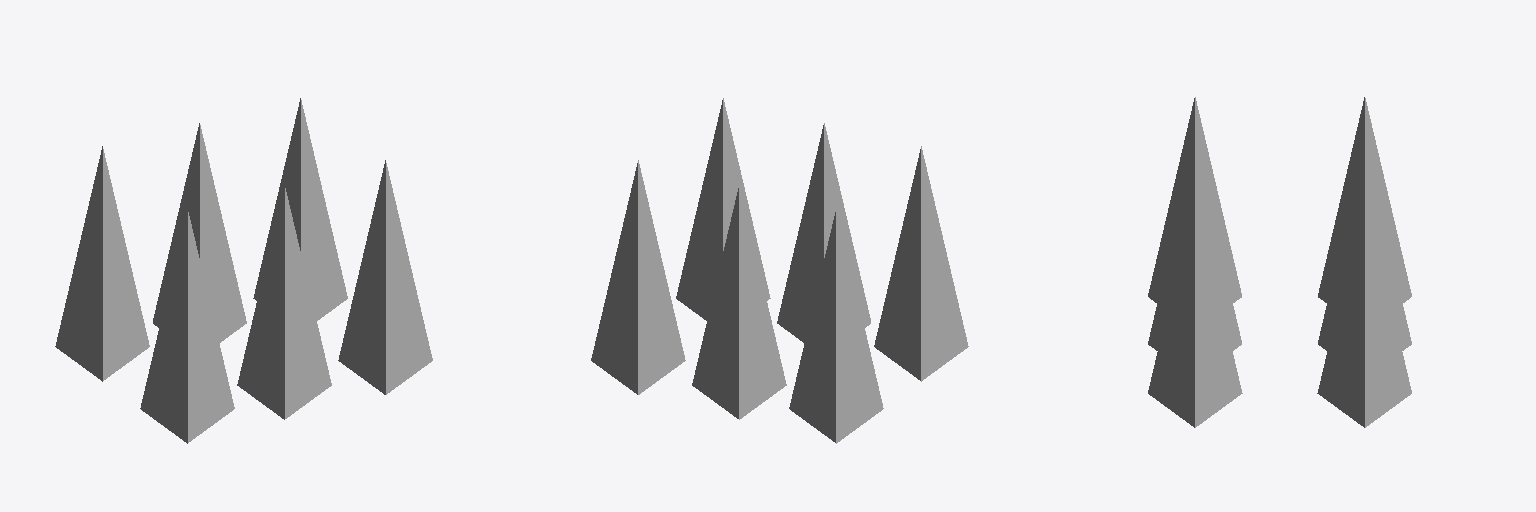
Rendered from Piques.obj.
3 views of the same model, side by side, from view 1: azimuth 30°, elevation 25°; view 2: azimuth 150°, elevation 25°; view 3: azimuth 270°, elevation 25° (orthographic).
Visible parts, largest first — view 1: Piques; view 2: Piques; view 3: Piques.
Boxes of the visible parts, box(x1,y1,x2,y2) form: Piques: box(55, 98, 432, 443); Piques: box(591, 98, 968, 443); Piques: box(1148, 97, 1411, 427).
Bounding box in the file's own units: 88.34 × 66.8 × 75.19.